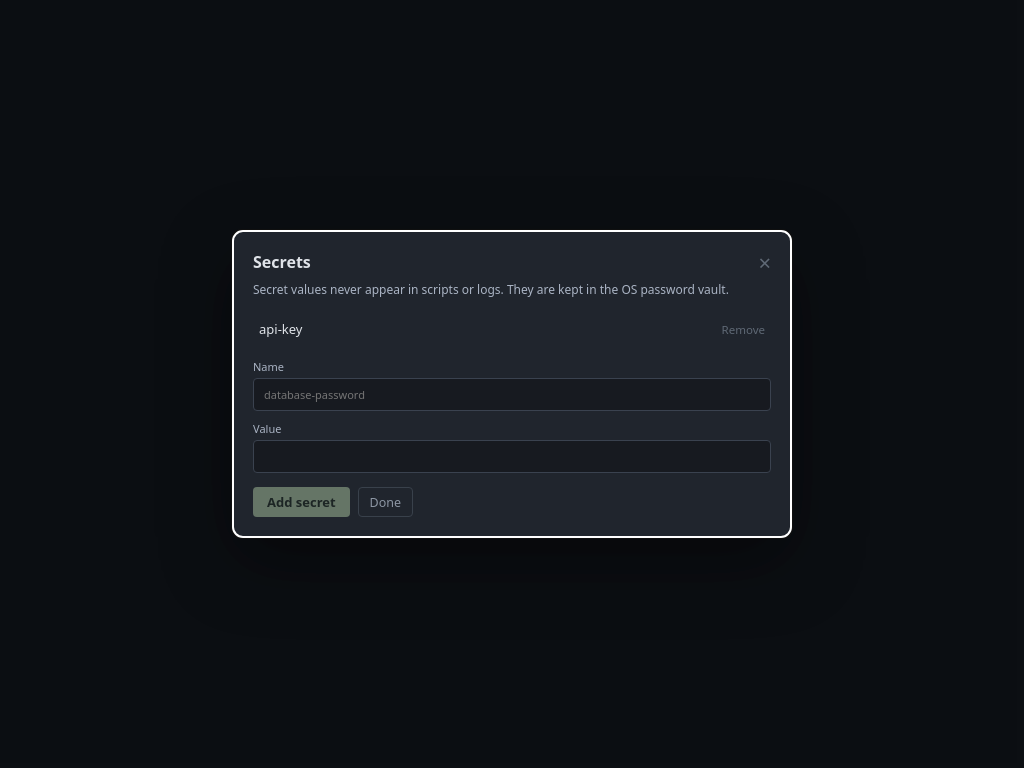
it: lists, adds and removes named secrets without showing values
The width and height of the screenshot is (1024, 768).
Later steps or results of the test are not shown.
Expected: the button "api-key" is shown, [259,316,714,342]
Type "database" into the field labelled "Name" at (512, 394), box [253,378,771,411]
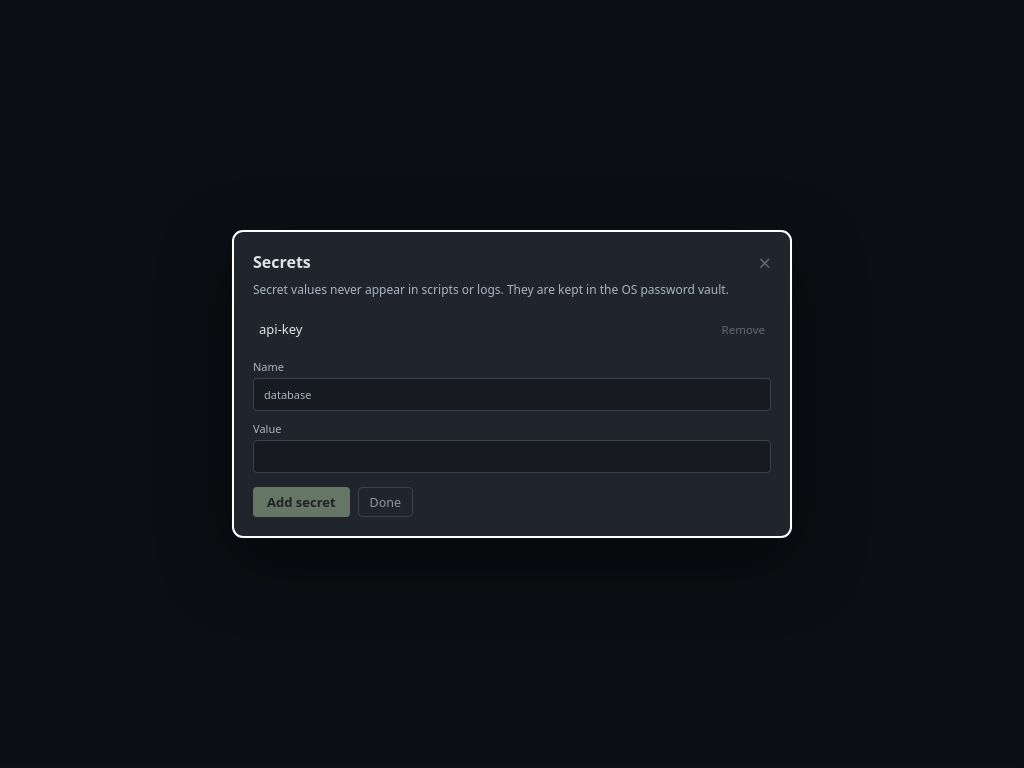
Type "secret" into the password field labelled "Value" at (512, 456), box [253,440,771,473]
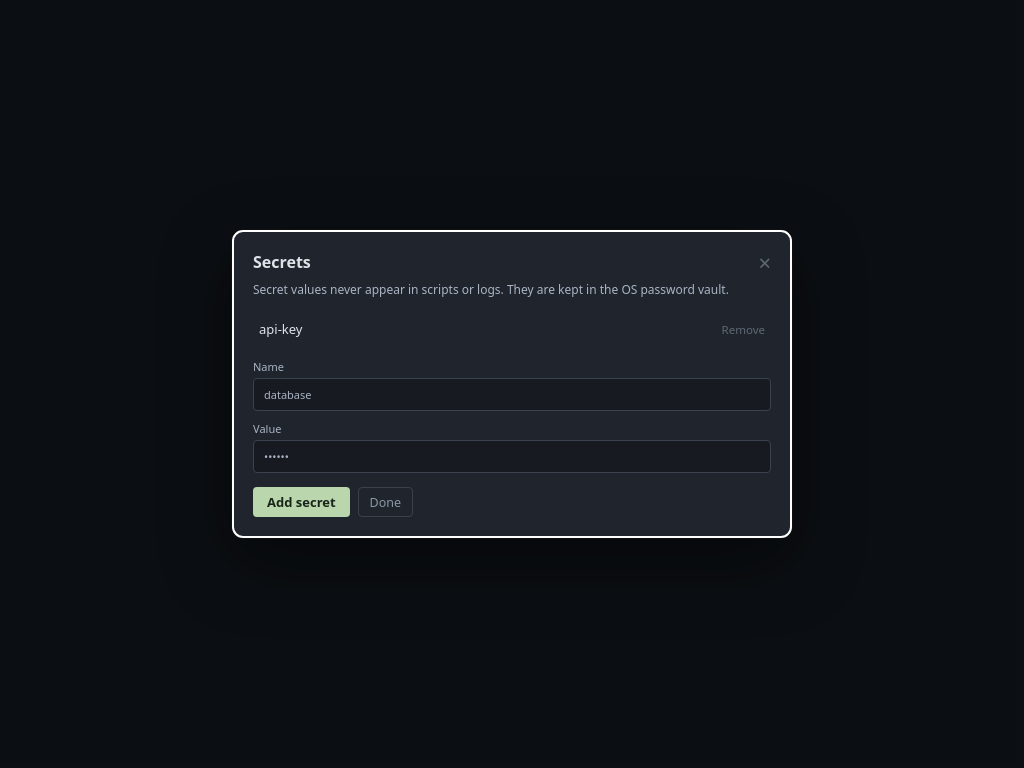
Click the button "Add secret" at (301, 502), box [253,487,350,517]
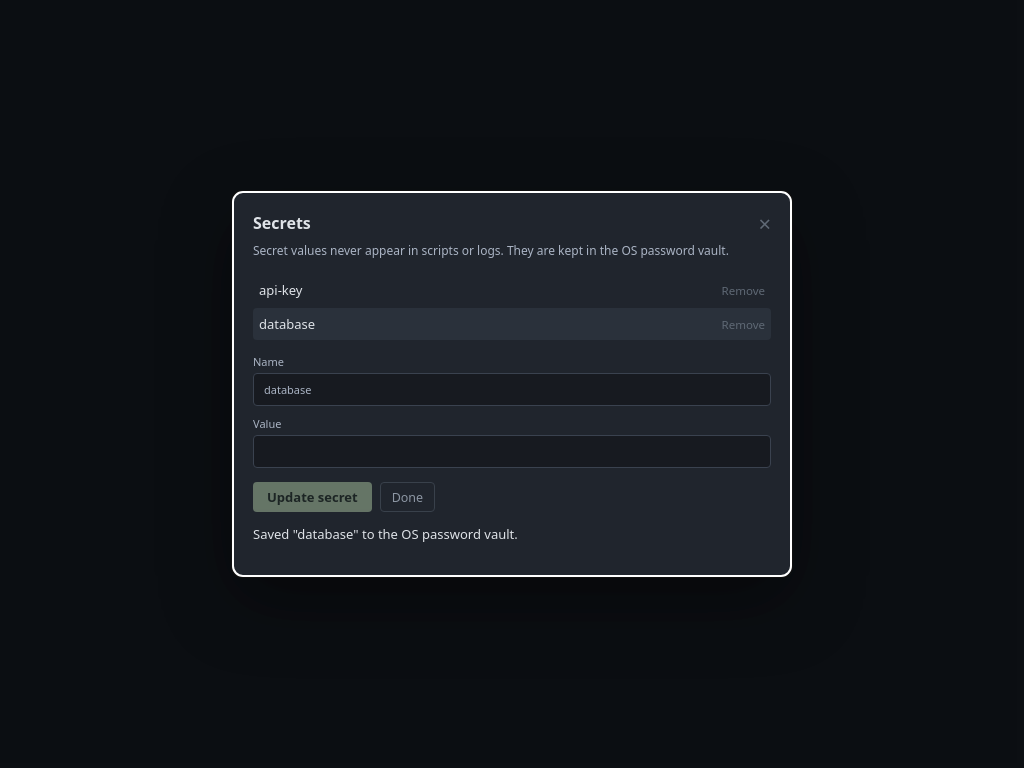
Result: the message shows "OS password vault" at [253,525,518,543]
Result: the button "database" is shown at [259,311,714,337]
